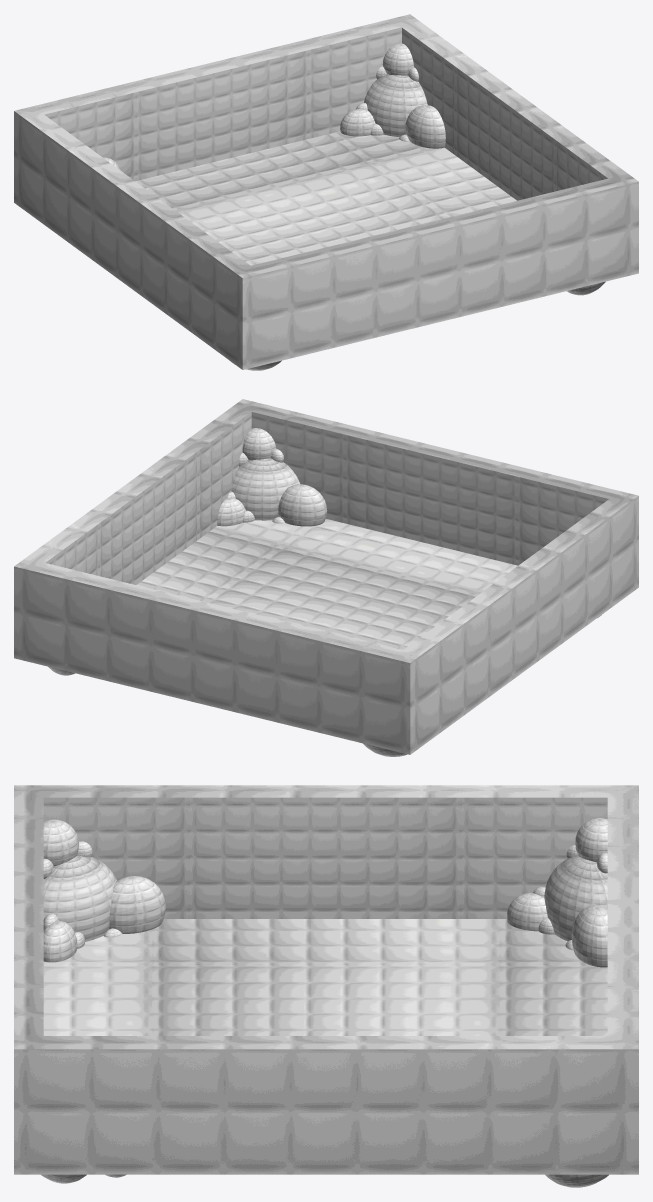
File: arenamodel.glb
3 renders of one model, top to bottom at view 1: azimuth 30°, elevation 25°; view 2: azimuth 150°, elevation 25°; view 3: azimuth 270°, elevation 25°, orthographic. The views are drawn at different scales.
Visible parts, largest first — view 1: Cube, Sphere, Sphere.002, Sphere.003, Sphere.001; view 2: Cube, Sphere.027, Sphere.029, Sphere.030, Sphere.028; view 3: Cube, Sphere.018, Sphere.009, Sphere.020, Sphere.011, Sphere.021, Sphere.010, Sphere.019, Sphere.012, Sphere.
Part boxes in pixels (x1=…): Cube: x1=14, y1=14, x2=638, y2=369; Sphere: x1=364, y1=74, x2=427, y2=137; Sphere.002: x1=405, y1=105, x2=445, y2=148; Sphere.003: x1=382, y1=43, x2=413, y2=75; Sphere.001: x1=340, y1=109, x2=375, y2=136; Cube: x1=14, y1=399, x2=638, y2=754; Sphere.027: x1=231, y1=458, x2=299, y2=520; Sphere.029: x1=278, y1=484, x2=327, y2=526; Sphere.030: x1=242, y1=428, x2=276, y2=460; Sphere.028: x1=217, y1=498, x2=245, y2=526; Cube: x1=14, y1=785, x2=638, y2=1174; Sphere.018: x1=43, y1=855, x2=117, y2=941; Sphere.009: x1=544, y1=855, x2=607, y2=941; Sphere.020: x1=109, y1=876, x2=165, y2=933; Sphere.011: x1=571, y1=905, x2=607, y2=967; Sphere.021: x1=43, y1=819, x2=78, y2=866; Sphere.010: x1=507, y1=893, x2=547, y2=931; Sphere.019: x1=43, y1=921, x2=77, y2=962; Sphere.012: x1=575, y1=818, x2=607, y2=862; Sphere: x1=545, y1=1174, x2=608, y2=1187.
Size of the model in its own units: 42 by 11.48 by 42.
Materials: 1 (1 with a texture image).
